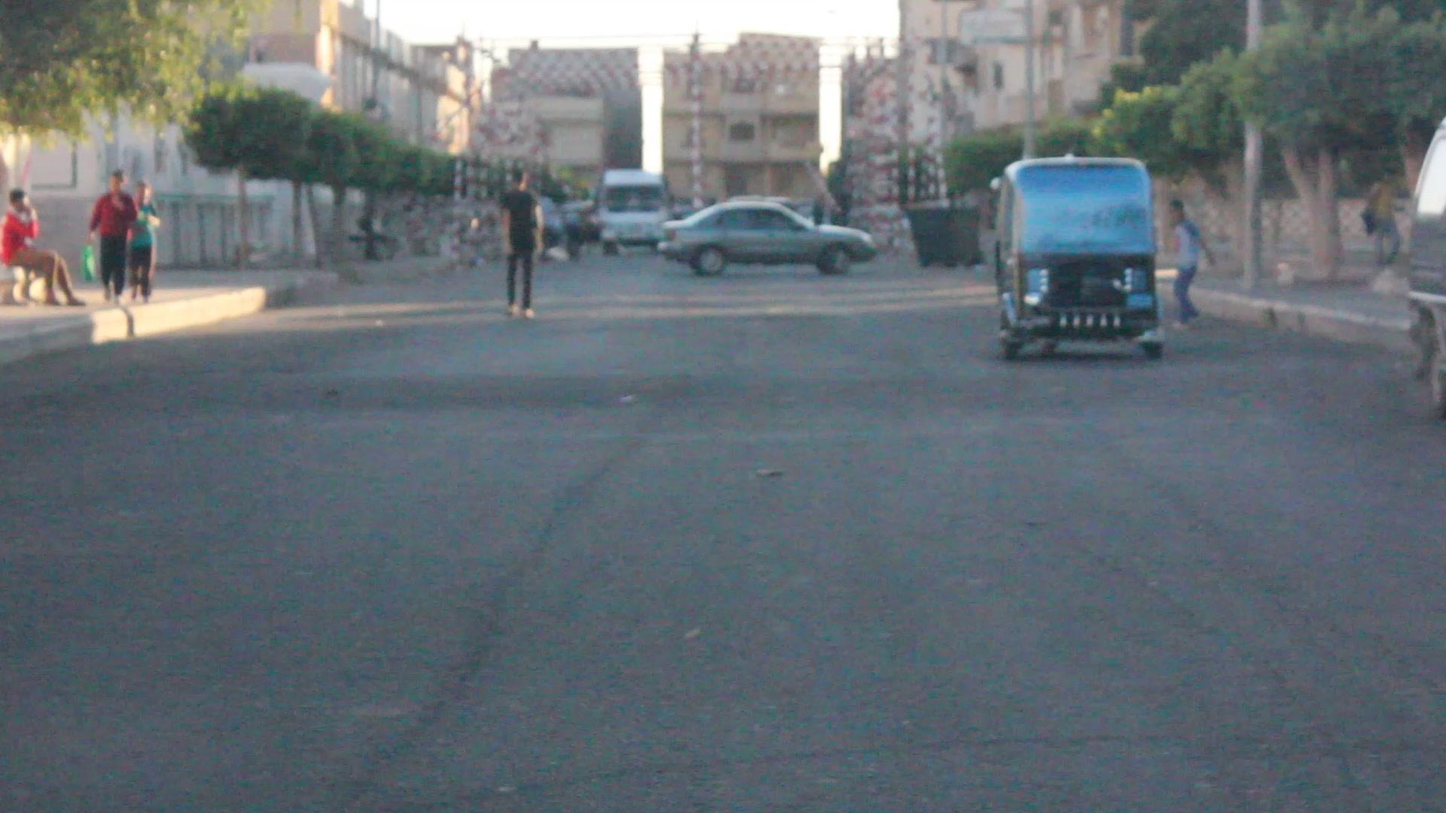Bump: (6, 349, 1445, 417)
